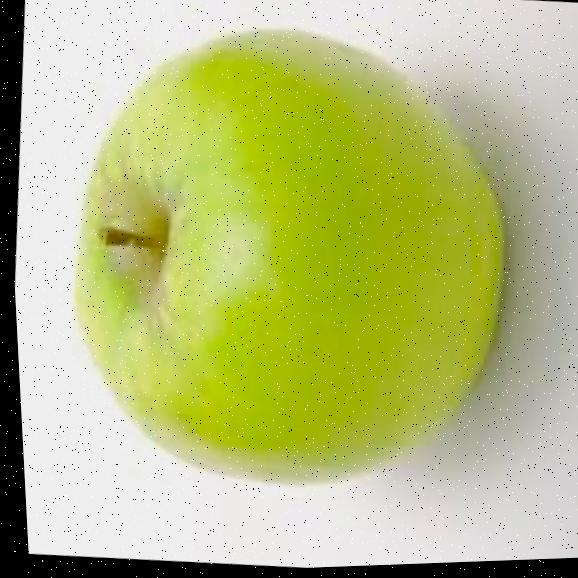HEALTHY: (19, 0, 550, 527)
